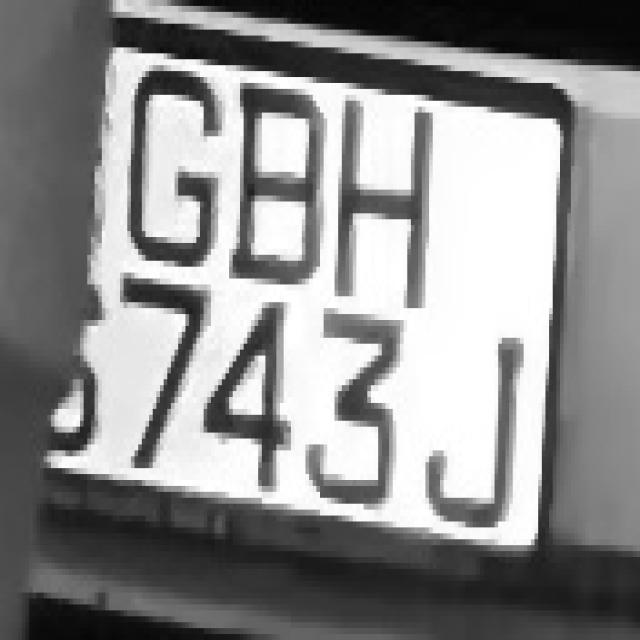3: (309, 267, 404, 527)
4: (204, 290, 298, 498)
7: (95, 249, 207, 486)
B: (229, 36, 331, 308)
G: (113, 47, 229, 290)
H: (327, 65, 444, 332)
J: (418, 296, 542, 522)
